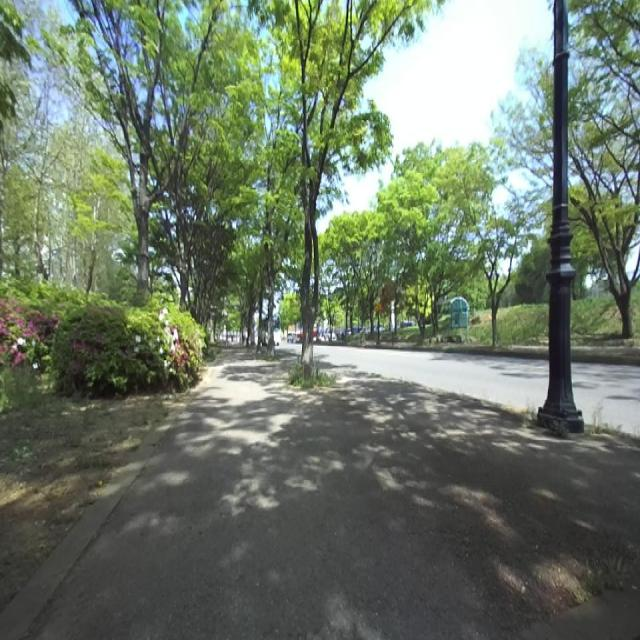sidewalk: (27, 346, 640, 640)
